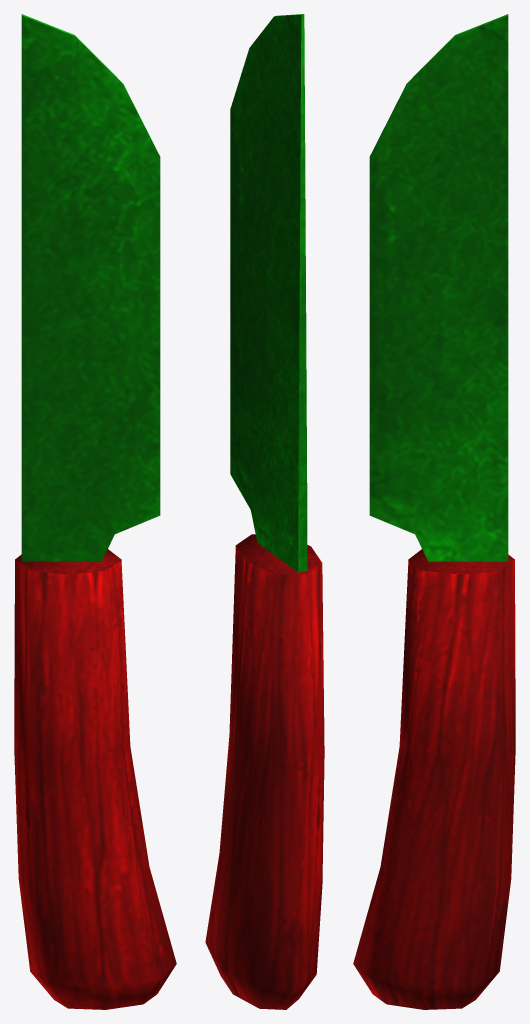
Rendered from Knife01.fbx.
3 views of the same model, side by side, from view 1: azimuth 90°, elevation 25°; view 2: azimuth 210°, elevation 25°; view 3: azimuth 270°, elevation 25° (orthographic). The views are drawn at different scales.
Parts seen in each view (by area): view 1: Knife01_LOD0; view 2: Knife01_LOD0; view 3: Knife01_LOD0.
Boxes of the visible parts, <box> form: Knife01_LOD0: <box>14,14,176,1009</box>; Knife01_LOD0: <box>205,14,324,1009</box>; Knife01_LOD0: <box>353,14,515,1009</box>.
Size of what is drawn, in the model's own units: 0.0276 by 0.3445 by 0.0513.
